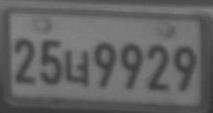2: (147, 44, 170, 90), (14, 38, 36, 84)
5: (40, 39, 63, 85)
9: (93, 42, 117, 87), (174, 45, 197, 91), (120, 43, 143, 87)
너: (64, 48, 89, 87)
